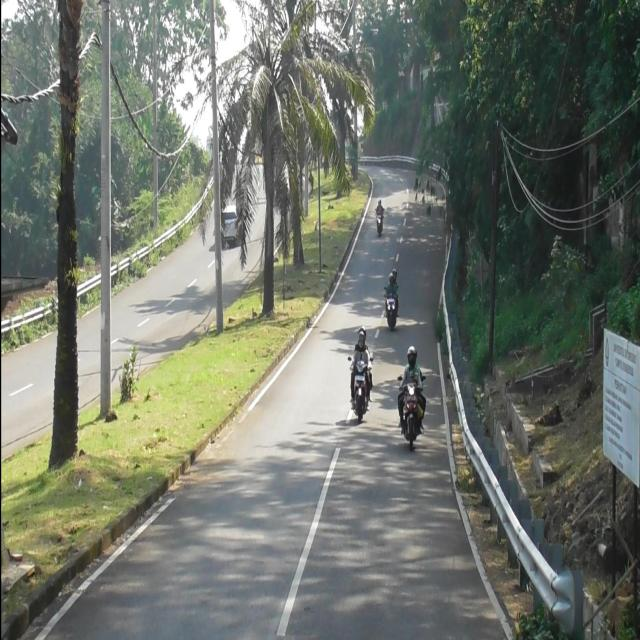motorcycle: (346, 352, 374, 422), (400, 378, 424, 450), (384, 288, 398, 331), (375, 210, 384, 237)
person: (399, 345, 423, 395), (349, 334, 372, 372), (354, 324, 370, 352), (385, 272, 399, 297), (375, 197, 384, 214), (392, 269, 398, 286)
rider_region: (396, 347, 429, 452), (346, 319, 374, 424), (381, 266, 402, 332), (372, 192, 387, 237)
